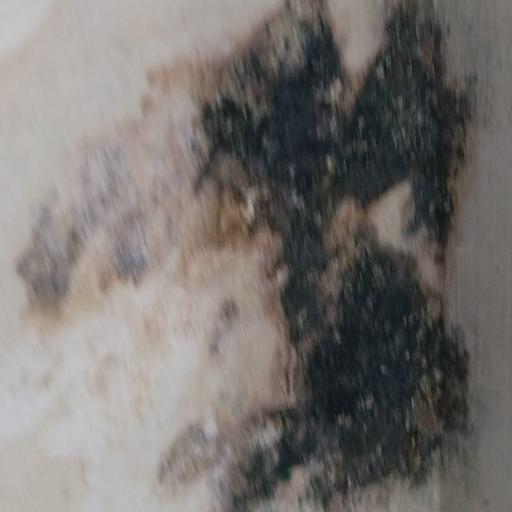algae: (96, 14, 512, 512)
